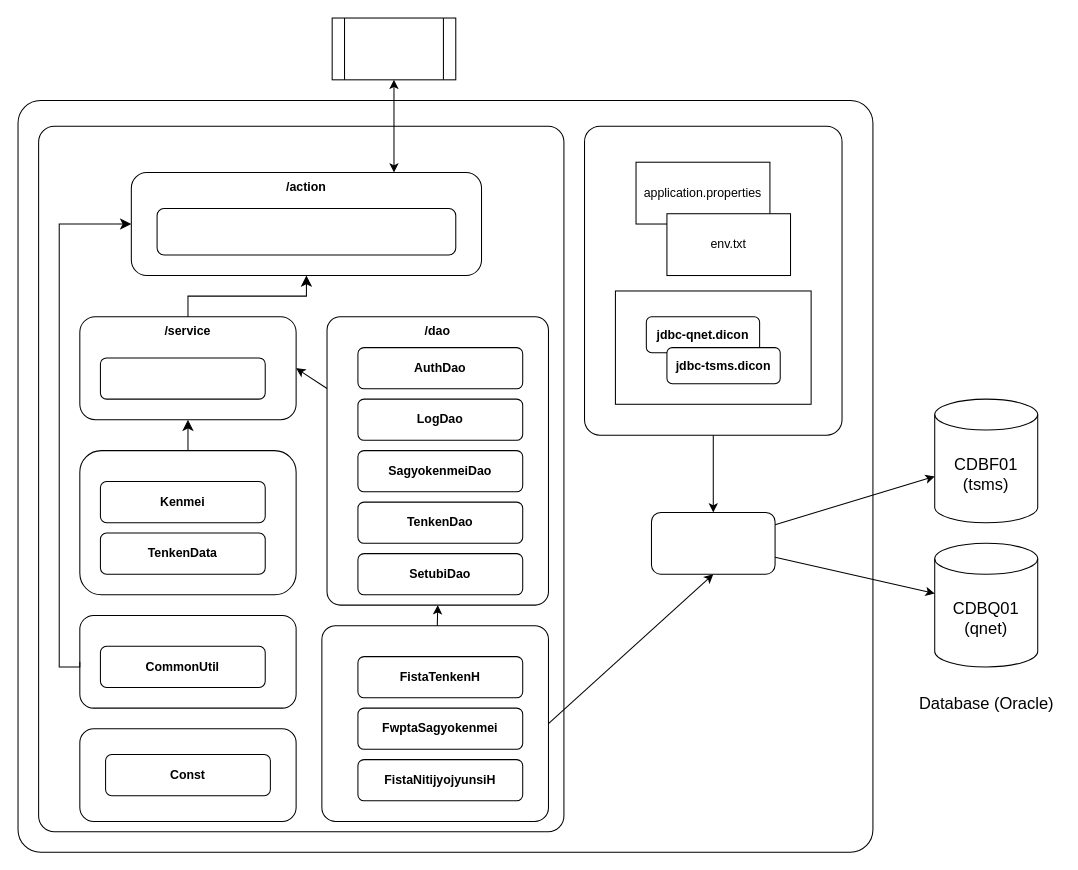
This 1078x870 diagram has some shape labels left out. The box of each missing label's shape, as (x1, y1, x2, y2) in pixels:
/app: (38, 125, 564, 832)
/common: (79, 728, 296, 821)
/entity: (321, 625, 548, 821)
/model: (79, 450, 296, 595)
/resources: (583, 125, 842, 435)
/tools: (79, 614, 296, 708)
app.dicon: (614, 290, 811, 404)
JmobileAction: (156, 208, 456, 255)
seasar struts: (650, 511, 775, 574)
Tablet: (331, 17, 456, 80)
TenkenKomokuService: (99, 357, 265, 399)
